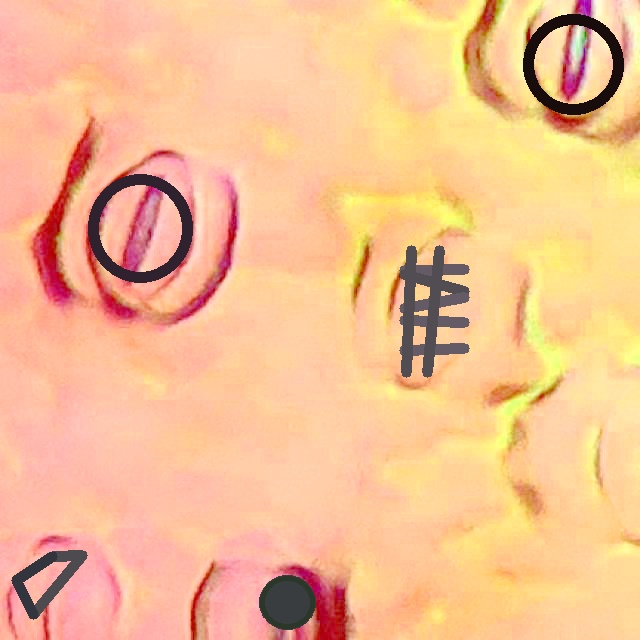close: (400, 246, 468, 377)
open: (88, 174, 191, 282), (522, 14, 624, 114), (12, 551, 86, 619), (258, 574, 316, 629)
